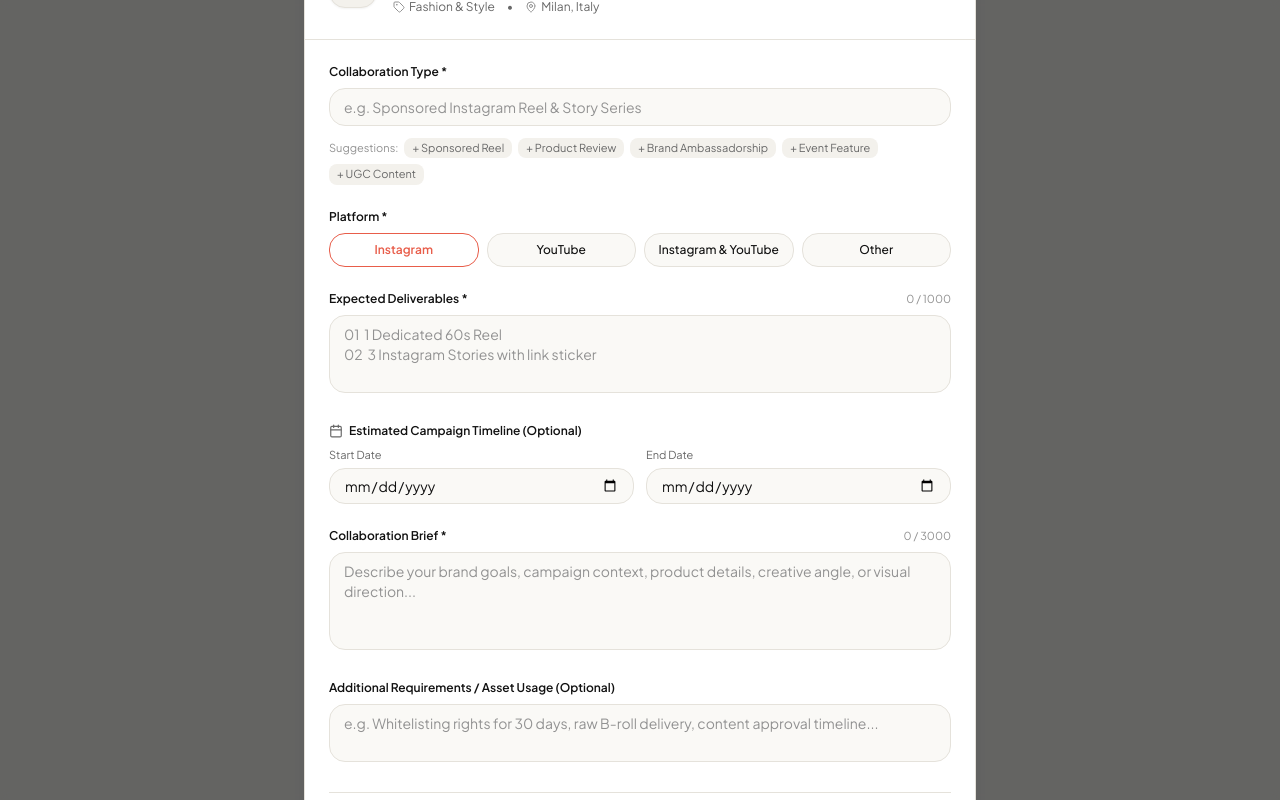
Phase 16 Part 3 — Toast Mutation Feedback Integration Suite › 3. Inquiry Submission Toast › shows "Collaboration proposal sent successfully" toast and closes modal immediately on submission
Type "Sponsored Instagram Reel" into the field labelled "Collaboration Type *".
click(640, 107); type("Sponsored Instagram Reel")  # box [329,88,951,126]
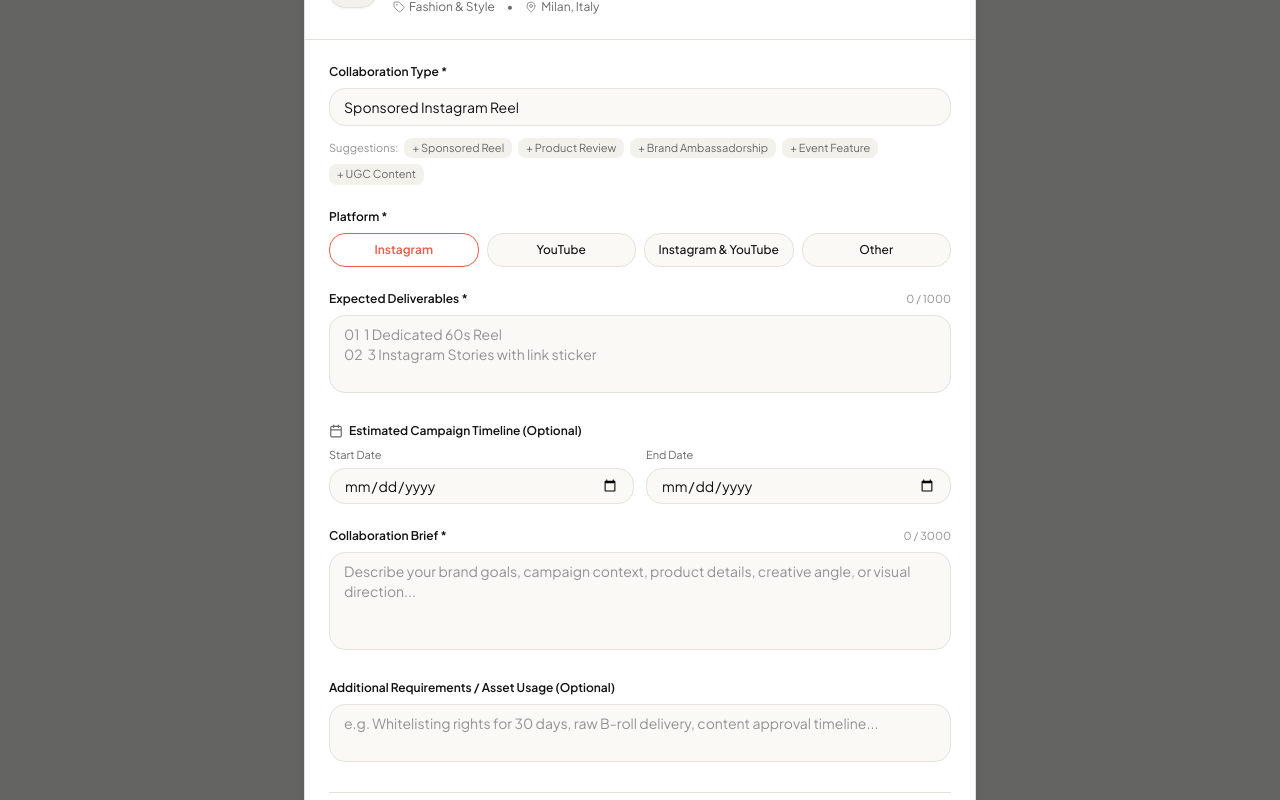
Replace the text in the text box labelled "Expected Deliverables *" with "1 Reel + 3 Stories" at (640, 354), box [329,315,951,393]
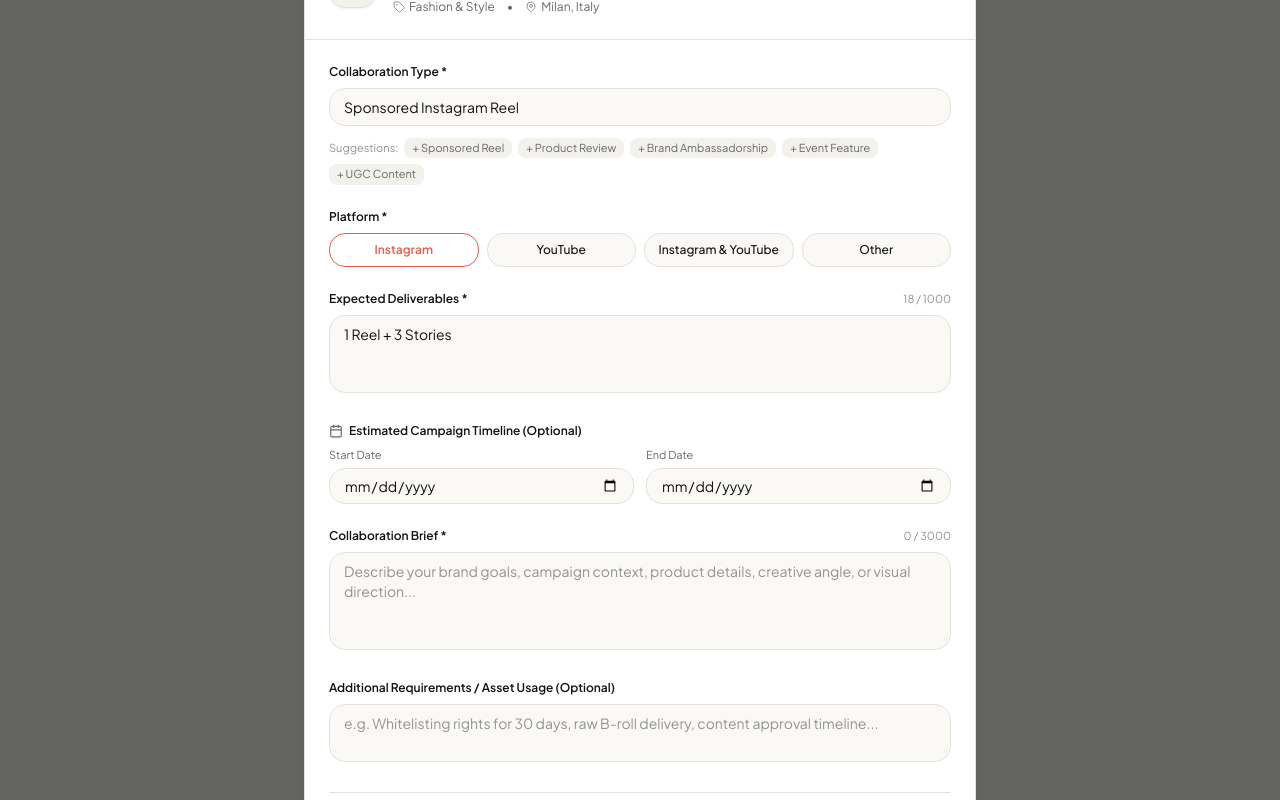
Replace the text in the text box labelled "Collaboration Brief *" with "Test brief with valid description details." at (640, 601), box [329,552,951,650]
(page scrolled)
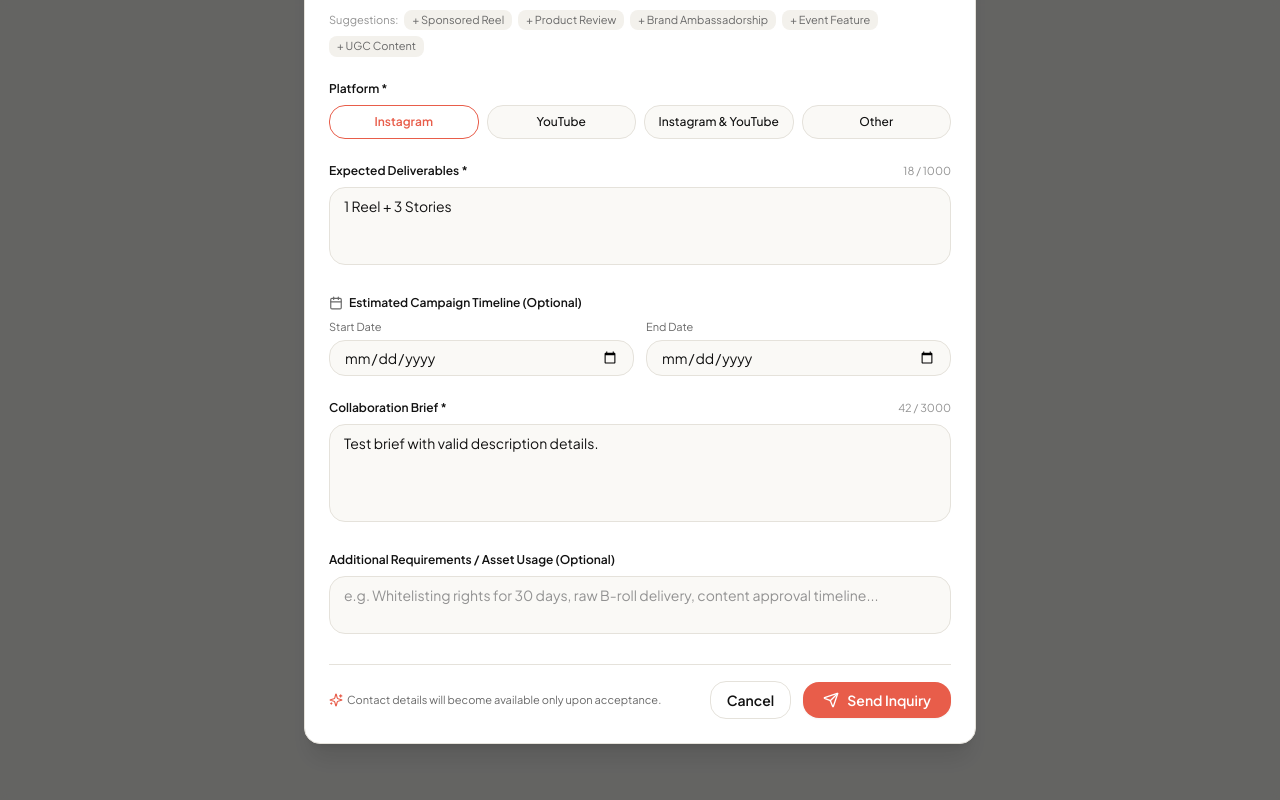
Click the button "Send Inquiry".
click(877, 700)  # box [803,682,951,718]
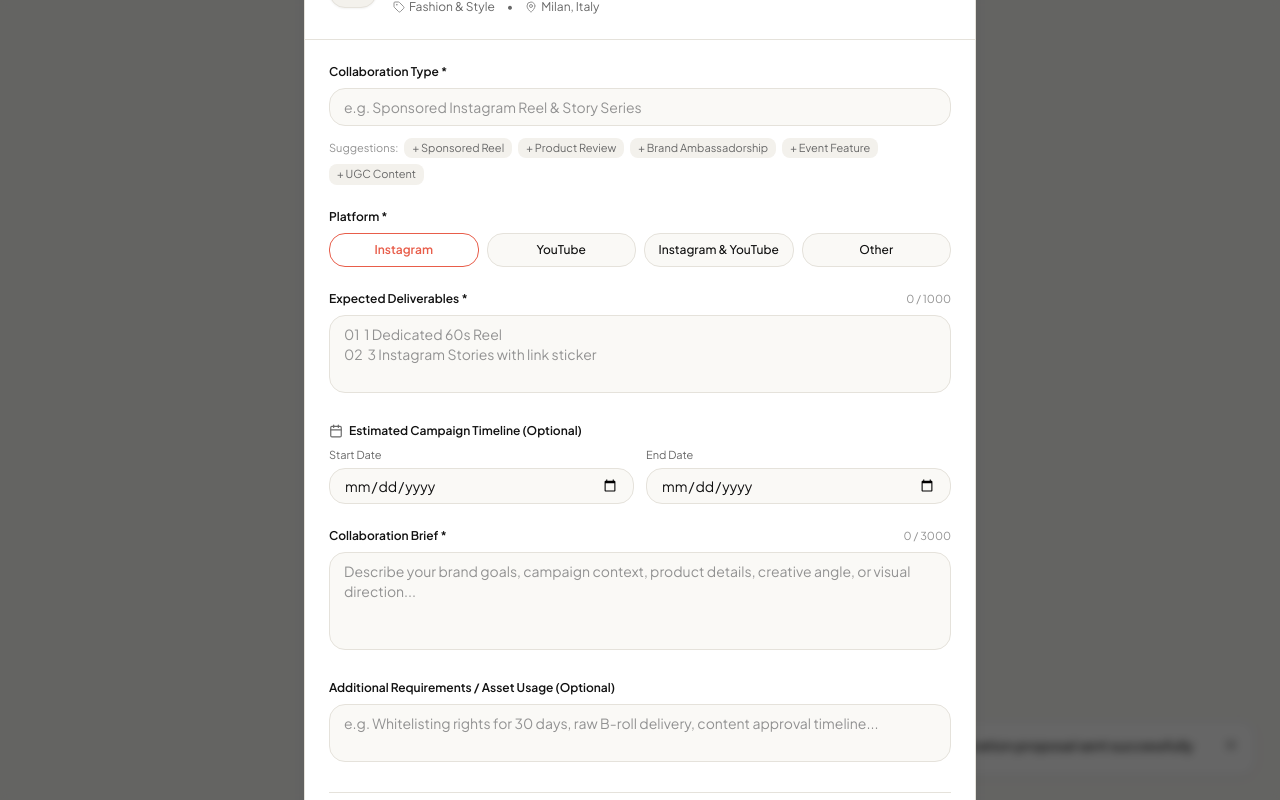
Expected: the text "Collaboration proposal sent successfully" is shown, [921,737,1207,754]
